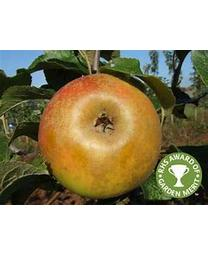apple: (36, 72, 162, 198)
